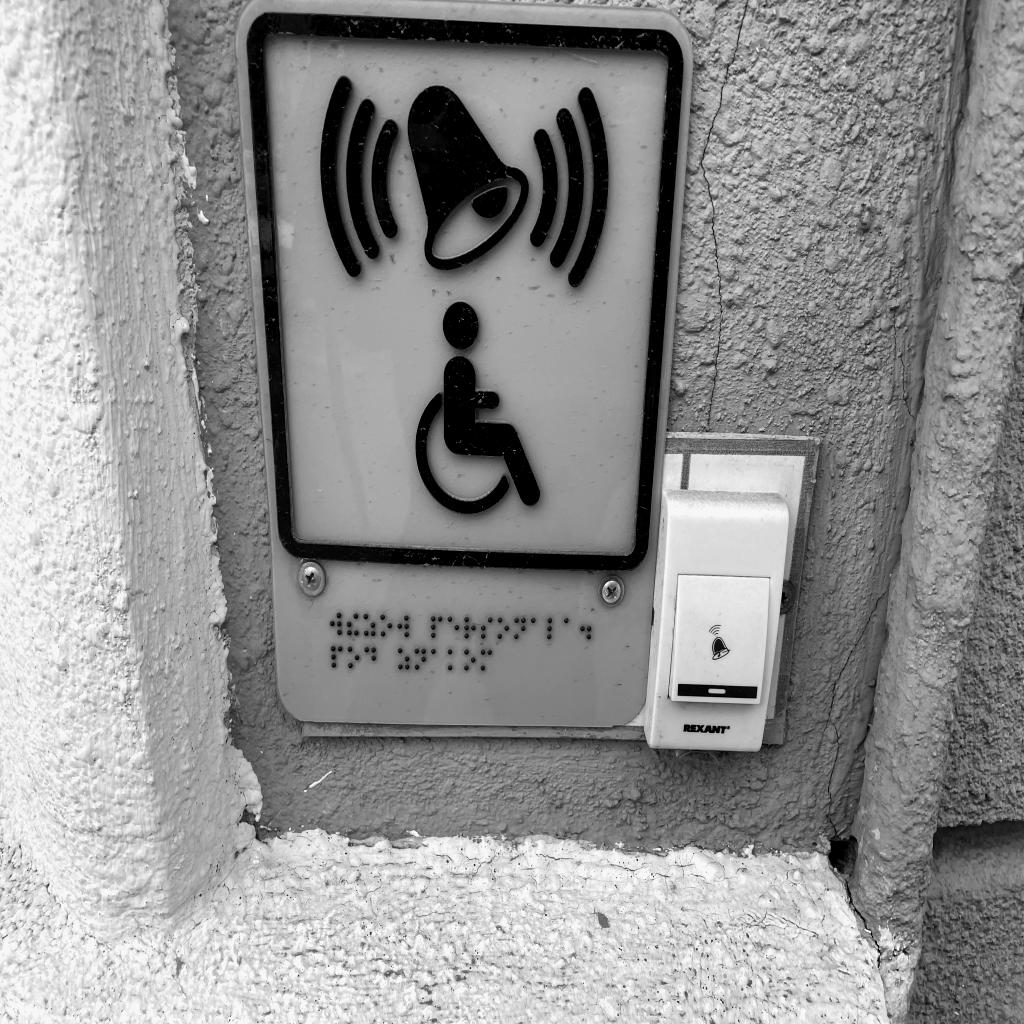_n: (414, 647, 427, 671), (514, 616, 526, 641)
a: (530, 617, 543, 643), (564, 617, 576, 641), (431, 648, 443, 672)
d: (364, 646, 376, 671)
e: (447, 615, 460, 641)
ii: (346, 612, 359, 637)
k: (447, 648, 459, 672)
l: (547, 616, 560, 641)
m: (480, 649, 493, 673)
o: (380, 613, 393, 638), (497, 616, 510, 641), (347, 645, 359, 670), (463, 648, 475, 672)
p: (430, 615, 443, 639), (331, 645, 343, 670)
r: (464, 616, 476, 641)
s: (480, 616, 493, 640)
tochka: (579, 616, 592, 641)
v: (330, 611, 343, 637), (396, 614, 409, 639)
z: (363, 613, 376, 639), (397, 647, 410, 671)
